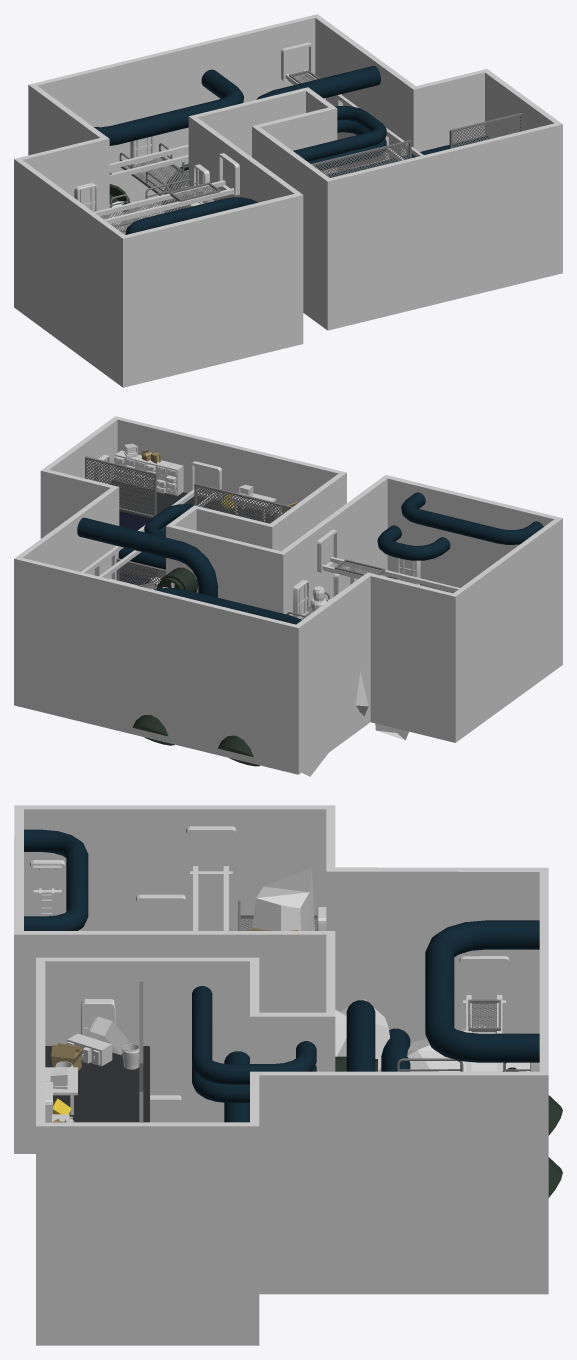
The picture shows the model from 3 angles, top to bottom: view 1: azimuth 30°, elevation 25°; view 2: azimuth 150°, elevation 25°; view 3: azimuth 270°, elevation 25°; orthographic projection. The views are drawn at different scales.
Visible parts, largest first — view 1: R2 Wall, Pipe .012, Pipe .015, Pipe .013, Pipe .016, Cube.013, Cube.120, Cube.045, Cube.073, Pipe .014, Cube.038, Cube.033 (+5 smaller); view 2: R2 Wall, Pipe .013, Pipe .016, Cube.120, Cube.042, Cube.181, Cube.013, Pipe .019, Pipe .012, Cube.043, Pipe .015, Cube.039 (+9 smaller); view 3: R2 Wall, Pipe .012, Cube.042, Pipe .015, Pipe .016, Icosphere.013, Cube.037, Cube.052, Pipe .013, Cube.024, Cube.182, Icosphere.016 (+5 smaller).
Boxes of the visible parts, <box> form: R2 Wall: <box>14,14,562,387</box>; Pipe .012: <box>94,69,243,145</box>; Pipe .015: <box>293,106,386,161</box>; Pipe .013: <box>256,66,380,99</box>; Pipe .016: <box>125,197,257,234</box>; Cube.013: <box>314,143,409,177</box>; Cube.120: <box>452,116,520,147</box>; Cube.045: <box>281,42,313,82</box>; Cube.073: <box>125,157,188,194</box>; Pipe .014: <box>308,120,386,170</box>; Cube.038: <box>104,188,234,223</box>; Cube.033: <box>94,180,225,216</box>; R2 Wall: <box>14,416,562,774</box>; Pipe .013: <box>77,517,217,597</box>; Pipe .016: <box>401,492,543,544</box>; Cube.120: <box>86,459,153,516</box>; Cube.042: <box>110,480,274,530</box>; Cube.181: <box>114,450,183,495</box>; Cube.013: <box>196,486,289,523</box>; Pipe .019: <box>377,525,450,560</box>; Pipe .012: <box>153,588,301,624</box>; Cube.043: <box>190,461,221,500</box>; Pipe .015: <box>144,504,269,537</box>; Cube.039: <box>317,529,338,572</box>; R2 Wall: <box>14,805,548,1345</box>; Pipe .012: <box>425,920,539,1062</box>; Cube.042: <box>45,1046,149,1122</box>; Pipe .015: <box>192,986,316,1084</box>; Pipe .016: <box>24,829,88,930</box>; Icosphere.013: <box>252,867,314,930</box>; Cube.037: <box>186,826,236,877</box>; Cube.052: <box>459,956,509,1006</box>; Pipe .013: <box>346,1000,375,1071</box>; Cube.024: <box>136,894,185,930</box>; Cube.182: <box>67,1016,128,1066</box>; Icosphere.016: <box>378,1024,529,1071</box>.
Size of the model in its own units: 8590 by 3234 by 6209.
